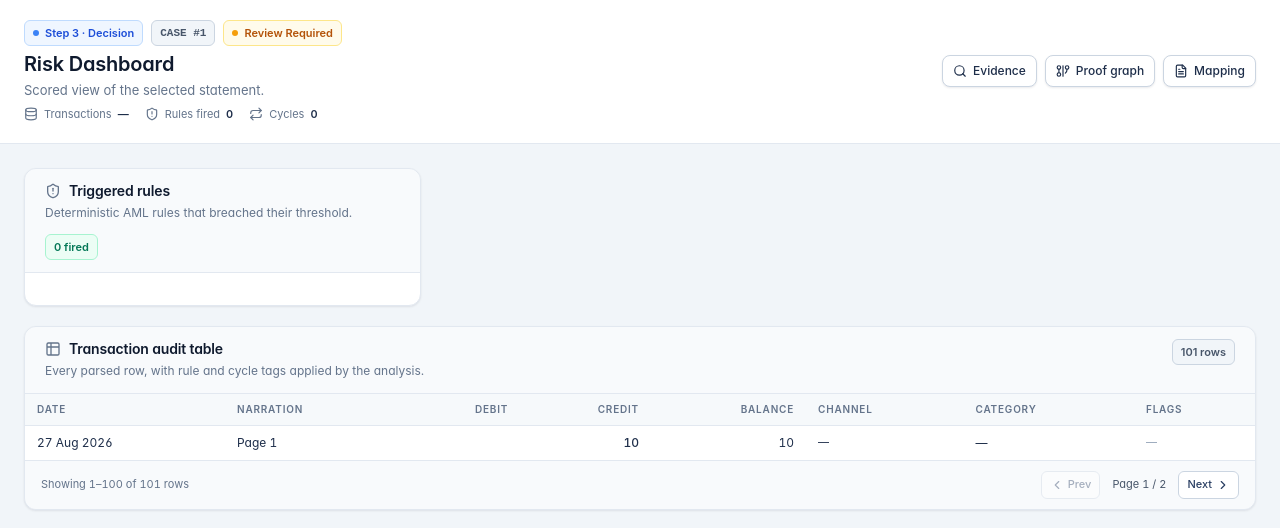
Test case: DashboardPage › refetches transactions when the audit-table page changes
The image size is (1280, 528).
expect the text "Page 1" is shown: met, box [237,434,277,450]
Click the button "Next".
click(1209, 484)  # box [1178,470,1239,498]
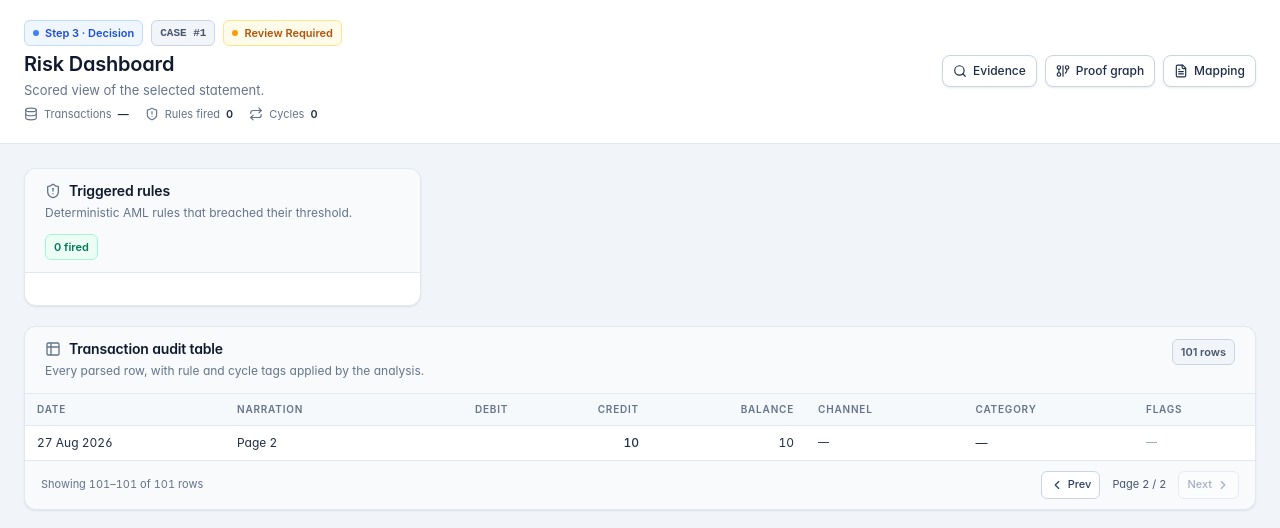
expect the text "Page 2" is shown: met, box [237,434,277,450]
